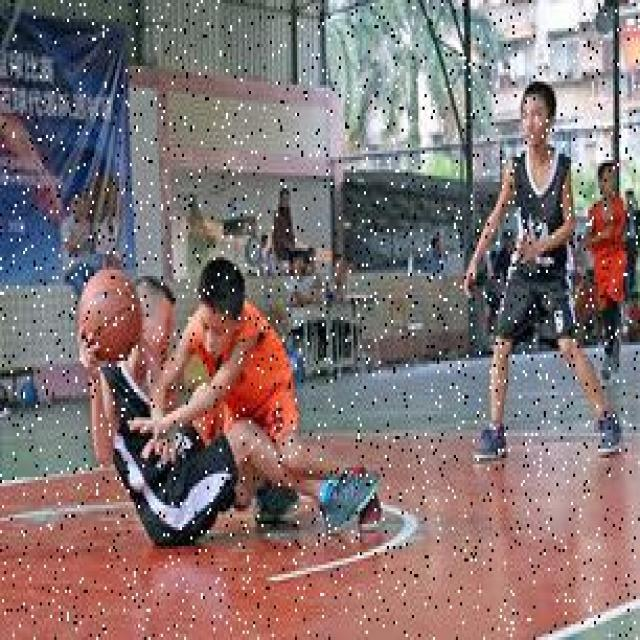fall: (80, 273, 380, 536)
